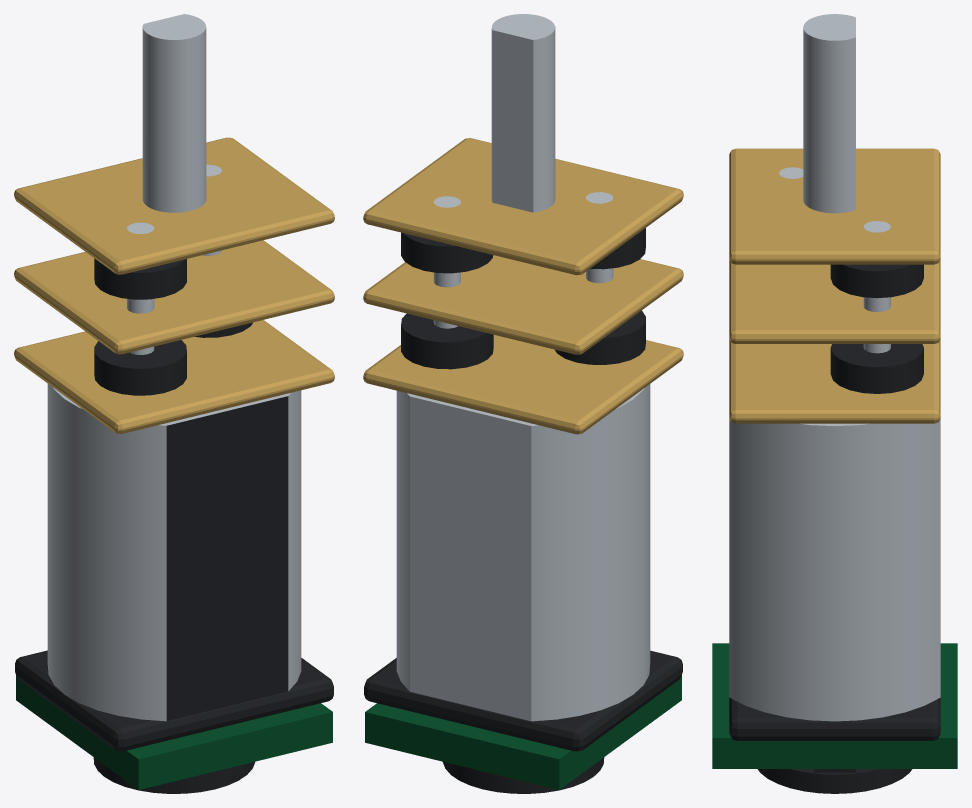
File: motor_298to1_hpcb_12v_ext.glb
3 renders of one model, left to right at view 1: azimuth 30°, elevation 25°; view 2: azimuth 150°, elevation 25°; view 3: azimuth 270°, elevation 25°, orthographic.
Parts seen in each view (by area): view 1: part_motor_298to1_hpcb_12v_ext__steel, part_motor_298to1_hpcb_12v_ext__brass, part_motor_298to1_hpcb_12v_ext__black_polymer, part_motor_298to1_hpcb_12v_ext__pcb; view 2: part_motor_298to1_hpcb_12v_ext__steel, part_motor_298to1_hpcb_12v_ext__brass, part_motor_298to1_hpcb_12v_ext__black_polymer, part_motor_298to1_hpcb_12v_ext__pcb; view 3: part_motor_298to1_hpcb_12v_ext__steel, part_motor_298to1_hpcb_12v_ext__brass, part_motor_298to1_hpcb_12v_ext__black_polymer, part_motor_298to1_hpcb_12v_ext__pcb.
Part boxes in pixels (x1,y1,x2,y2): part_motor_298to1_hpcb_12v_ext__steel: (47,14,301,721); part_motor_298to1_hpcb_12v_ext__brass: (14,137,334,433); part_motor_298to1_hpcb_12v_ext__black_polymer: (15,258,333,793); part_motor_298to1_hpcb_12v_ext__pcb: (16,675,332,789); part_motor_298to1_hpcb_12v_ext__steel: (396,14,650,721); part_motor_298to1_hpcb_12v_ext__brass: (363,138,683,434); part_motor_298to1_hpcb_12v_ext__black_polymer: (364,228,682,793); part_motor_298to1_hpcb_12v_ext__pcb: (365,675,681,789); part_motor_298to1_hpcb_12v_ext__steel: (729,14,940,721); part_motor_298to1_hpcb_12v_ext__brass: (729,148,940,423); part_motor_298to1_hpcb_12v_ext__black_polymer: (729,264,940,793); part_motor_298to1_hpcb_12v_ext__pcb: (712,643,957,768).
Size of the model in its own units: 0.012 by 0.0391 by 0.0116.
